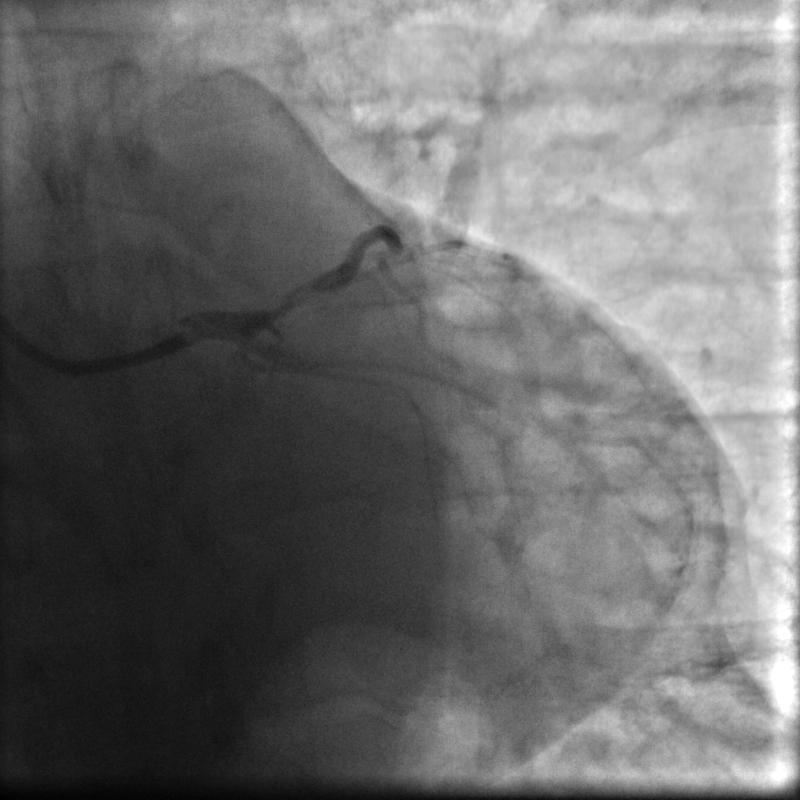Stenosis: (272, 275, 339, 312)
